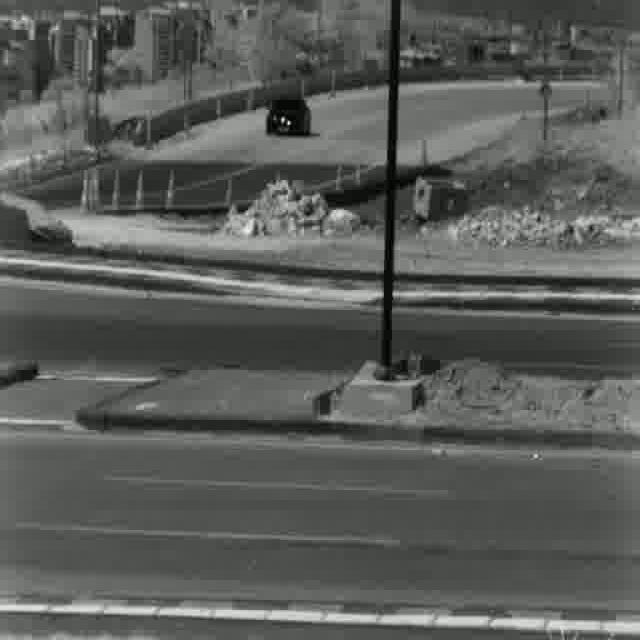Car: (266, 96, 312, 136)
